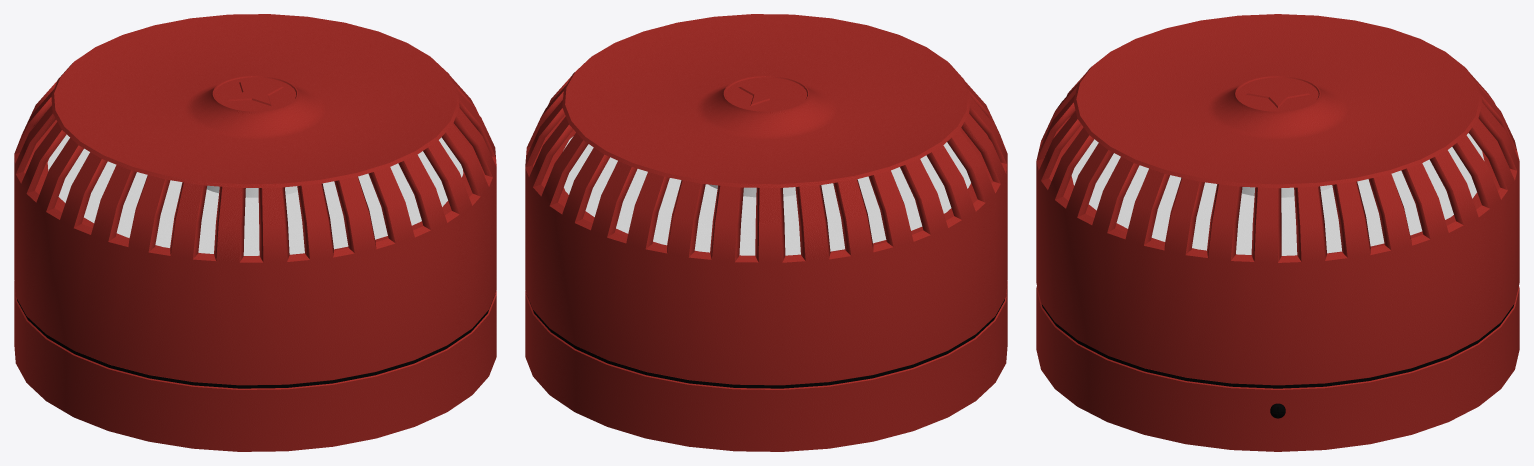
3 renders of one model, left to right at view 1: azimuth 30°, elevation 25°; view 2: azimuth 150°, elevation 25°; view 3: azimuth 270°, elevation 25°, orthographic.
Visible parts, largest first — view 1: Roshni Sounder; view 2: Roshni Sounder; view 3: Roshni Sounder.
Boxes of the visible parts, x1,y1,x2,y2 form: Roshni Sounder: [14, 14, 496, 451]; Roshni Sounder: [525, 14, 1007, 451]; Roshni Sounder: [1036, 14, 1519, 451].
Bounding box in the file's own units: 2.03 × 1.17 × 2.
Materials: 3 (2 with a texture image).
